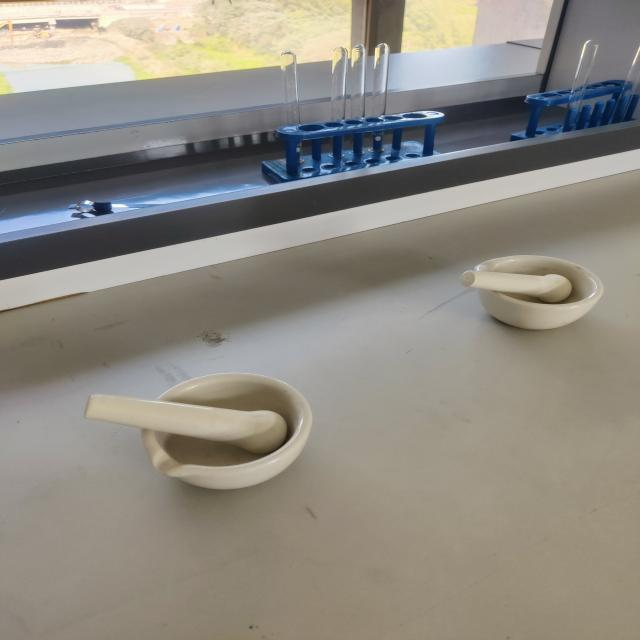Porcelain_Mortar Pestle: (66, 336, 334, 514), (423, 216, 640, 358)
